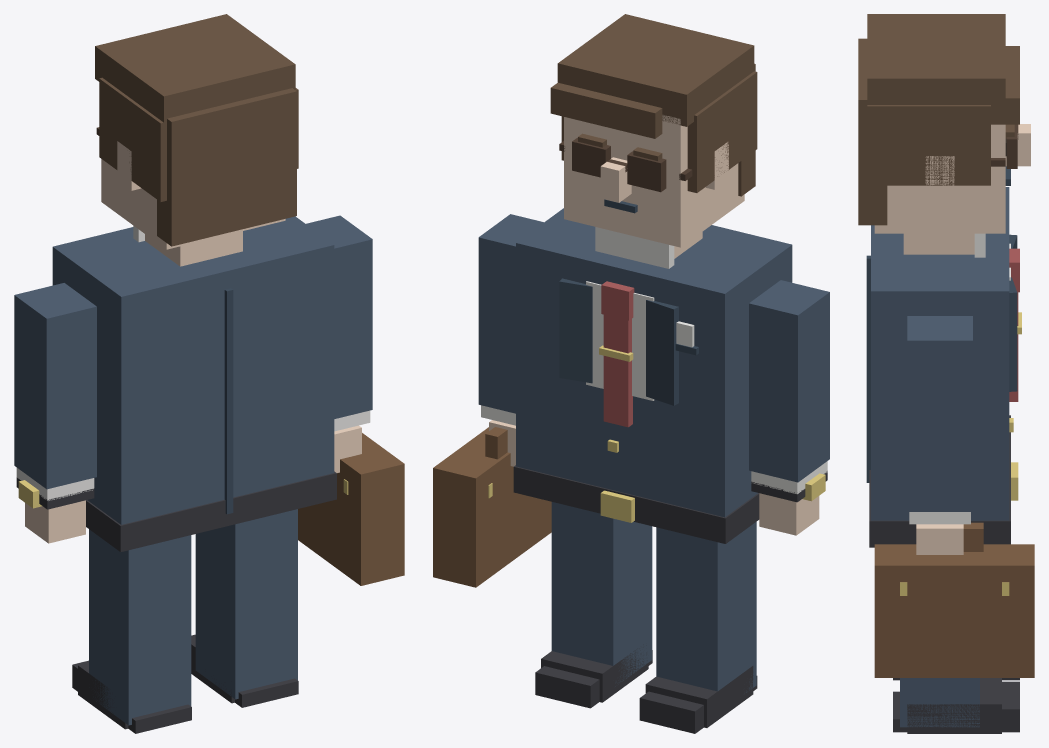
File: flickerr_revamp.glb
The picture shows the model from 3 angles, left to right: view 1: azimuth 30°, elevation 25°; view 2: azimuth 150°, elevation 25°; view 3: azimuth 270°, elevation 25°; orthographic projection. The views are drawn at different scales.
Visible parts, largest first — view 1: Jacket_Body, Hair_Back_Full, Leg_L, Leg_R, Arm_L, Hair_Top, Briefcase_Body, Arm_R, Belt, Hair_Side_L, Head_Core, Back_Seam (+8 smaller); view 2: Jacket_Body, Arm_L, Leg_R, Leg_L, Hair_Top, Briefcase_Body, Head_Core, Arm_R, Belt, Hair_Side_L, Hair_Front_Swoop, Lapel_R (+17 smaller); view 3: Jacket_Body, Briefcase_Body, Arm_R, Hair_Top, Hair_Side_R, Head_Core, Leg_R, Shoe_Body_R, Hair_Back_Full, Belt, Neck, Hair_Front_Swoop (+12 smaller).
Boxes of the visible parts, x1=… form: Jacket_Body: x1=52, y1=216, x2=334, y2=524; Hair_Back_Full: x1=157, y1=88, x2=296, y2=246; Leg_L: x1=89, y1=529, x2=191, y2=725; Leg_R: x1=195, y1=509, x2=297, y2=699; Arm_L: x1=14, y1=283, x2=96, y2=489; Hair_Top: x1=95, y1=14, x2=295, y2=127; Briefcase_Body: x1=298, y1=433, x2=404, y2=585; Arm_R: x1=306, y1=215, x2=372, y2=418; Belt: x1=86, y1=471, x2=336, y2=551; Hair_Side_L: x1=99, y1=77, x2=166, y2=201; Head_Core: x1=101, y1=159, x2=285, y2=249; Back_Seam: x1=224, y1=288, x2=233, y2=514; Jacket_Body: x1=516, y1=208, x2=792, y2=517; Arm_L: x1=749, y1=280, x2=829, y2=482; Leg_R: x1=551, y1=502, x2=652, y2=686; Leg_L: x1=656, y1=522, x2=756, y2=693; Hair_Top: x1=557, y1=14, x2=754, y2=126; Briefcase_Body: x1=433, y1=427, x2=551, y2=587; Head_Core: x1=564, y1=115, x2=744, y2=247; Arm_R: x1=478, y1=214, x2=543, y2=413; Belt: x1=513, y1=465, x2=759, y2=543; Hair_Side_L: x1=687, y1=71, x2=757, y2=192; Hair_Front_Swoop: x1=550, y1=82, x2=662, y2=138; Lapel_R: x1=559, y1=278, x2=592, y2=383; Jacket_Body: x1=871, y1=187, x2=1009, y2=520; Briefcase_Body: x1=874, y1=544, x2=1034, y2=677; Arm_R: x1=907, y1=316, x2=972, y2=511; Hair_Top: x1=867, y1=14, x2=1005, y2=111; Hair_Side_R: x1=867, y1=105, x2=990, y2=185; Head_Core: x1=874, y1=124, x2=1005, y2=233; Leg_R: x1=900, y1=678, x2=979, y2=727; Shoe_Body_R: x1=907, y1=678, x2=1001, y2=733; Hair_Back_Full: x1=858, y1=38, x2=887, y2=225; Belt: x1=869, y1=415, x2=1010, y2=547; Neck: x1=903, y1=233, x2=974, y2=254; Hair_Front_Swoop: x1=991, y1=46, x2=1019, y2=124.
Bounding box in the file's own units: 1.11 × 1.96 × 0.485.
